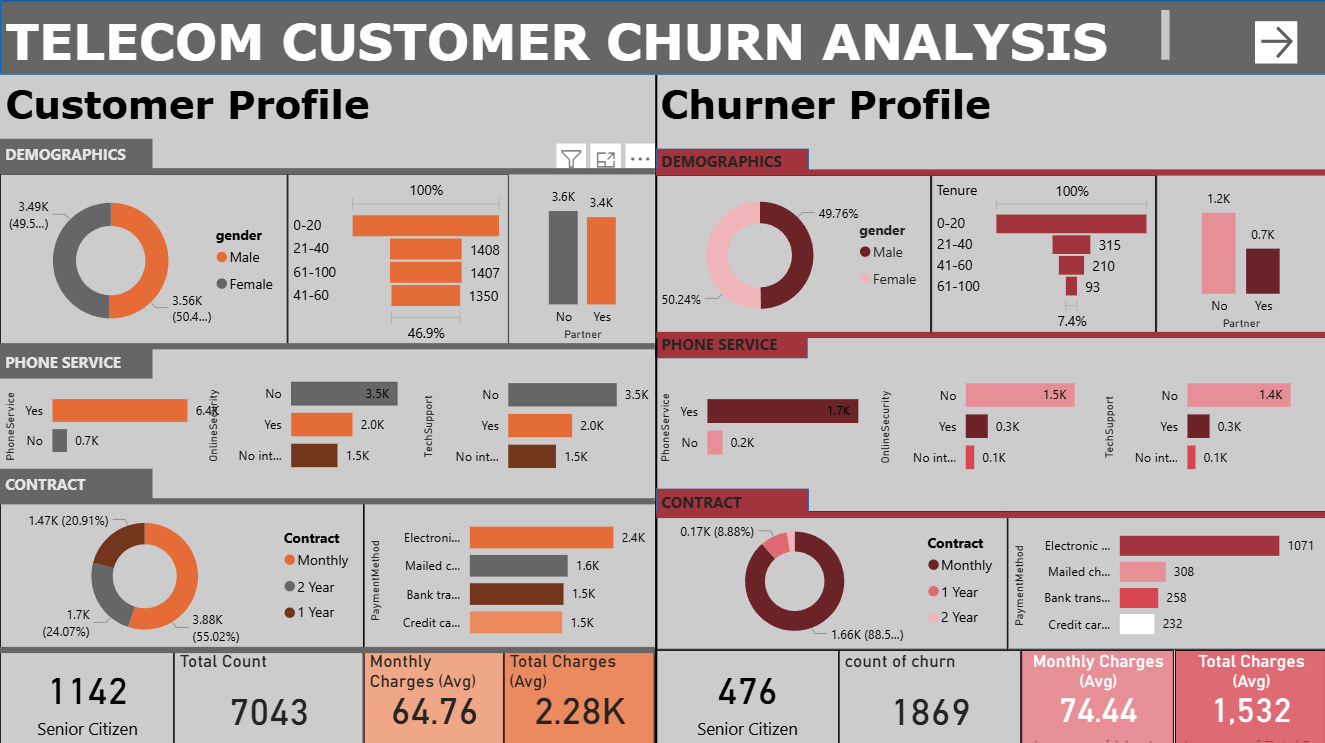

This screenshot's page, from the dashboard's own definition file:
{"tool":"powerbi","page":{"name":"Summary","canvas":[1280,720],"ordinal":0},"visuals":[{"type":"shape","box":[0,0,1280,72.4],"z":0},{"type":"shape","box":[1146.4,627.5,133.6,91.8],"z":1000},{"type":"shape","box":[632.5,321.2,147.5,25],"z":2000},{"type":"card","title":"count of churn","fields":{"Values":["CountNonNull(Churned_Data.Churn)"]},"box":[809.5,627.3,176.1,92.9],"z":3000},{"type":"card","title":"Total Count","fields":{"Values":["CountNonNull(Telco-Churn-Analysis.customerID)"]},"box":[167.7,627.3,183.4,91.7],"z":4000},{"type":"donutChart","fields":{"Category":["Telco-Churn-Analysis.gender"],"Y":["CountNonNull(Telco-Churn-Analysis.gender)","select"]},"box":[0,167.7,277.5,166.5],"z":5000},{"type":"donutChart","fields":{"Category":["Churned_Data.gender"],"Y":["CountNonNull(Churned_Data.gender)"]},"box":[632.5,168.8,266.2,153.8],"z":6000},{"type":"funnel","fields":{"Category":["Telco-Churn-Analysis.Tenure_Bin"],"Y":["CountNonNull(Telco-Churn-Analysis.Tenure_Bin)"]},"box":[277.5,167.7,213.5,166.5],"z":7000},{"type":"funnel","fields":{"Category":["Churned_Data.Tenure_Bin"],"Y":["CountNonNull(Churned_Data.Tenure_Bin)"]},"box":[898.8,168.9,217.2,153.2],"z":8000},{"type":"card","fields":{"Values":["Sum(Telco-Churn-Analysis.SeniorCitizen)"]},"box":[0,627.3,167.7,92.9],"z":9000},{"type":"card","fields":{"Values":["Sum(Churned_Data.SeniorCitizen)"]},"box":[632.2,627.3,177.3,92.9],"z":10000},{"type":"clusteredColumnChart","fields":{"Category":["Telco-Churn-Analysis.Partner"],"Y":["CountNonNull(Telco-Churn-Analysis.Partner)"]},"box":[491,167.7,142.4,165.3],"z":11000},{"type":"clusteredColumnChart","fields":{"Category":["Churned_Data.Partner"],"Y":["CountNonNull(Churned_Data.Partner)"]},"box":[1116.2,167.5,163.8,155],"z":12000},{"type":"clusteredBarChart","fields":{"Category":["Telco-Churn-Analysis.PhoneService"],"Y":["CountNonNull(Telco-Churn-Analysis.PhoneService)"]},"box":[0,346.2,222.5,122.5],"z":13000},{"type":"clusteredBarChart","fields":{"Category":["Churned_Data.PhoneService"],"Y":["CountNonNull(Churned_Data.PhoneService)"]},"box":[632.5,345,231.2,127.5],"z":14000},{"type":"clusteredBarChart","title":"Online Security","fields":{"Category":["Telco-Churn-Analysis.OnlineSecurity"],"Y":["CountNonNull(Telco-Churn-Analysis.OnlineSecurity)"]},"box":[195.4,343.8,220.8,125.5],"z":15000},{"type":"clusteredBarChart","fields":{"Category":["Churned_Data.OnlineSecurity"],"Y":["CountNonNull(Churned_Data.OnlineSecurity)"]},"box":[845,345,227.5,126.2],"z":16000},{"type":"clusteredBarChart","fields":{"Category":["Telco-Churn-Analysis.TechSupport"],"Y":["CountNonNull(Telco-Churn-Analysis.TechSupport)"]},"box":[402.5,345,230,125],"z":17000},{"type":"clusteredBarChart","fields":{"Category":["Churned_Data.TechSupport"],"Y":["CountNonNull(Churned_Data.TechSupport)"]},"box":[1060,345,220,126.2],"z":18000},{"type":"barChart","fields":{"Category":["Churned_Data.PaymentMethod"],"Y":["CountNonNull(Churned_Data.InternetService)"]},"box":[972.4,493.4,307.6,133.9],"z":19000},{"type":"donutChart","fields":{"Category":["Telco-Churn-Analysis.Contract"],"Y":["CountNonNull(Telco-Churn-Analysis.Contract)"]},"box":[0,483.8,351.1,143.6],"z":20000},{"type":"donutChart","fields":{"Category":["Churned_Data.Contract"],"Y":["CountNonNull(Churned_Data.Contract)"]},"box":[633.4,493.4,339,133.9],"z":21000},{"type":"clusteredBarChart","fields":{"Category":["Telco-Churn-Analysis.PaymentMethod"],"Y":["CountNonNull(Telco-Churn-Analysis.PaymentMethod)"]},"box":[351.1,483.8,282.3,143.6],"z":22000},{"type":"card","title":"Monthly Charges (Avg)","fields":{"Values":["Avg(Telco-Churn-Analysis.MonthlyCharges)"]},"box":[351.1,627.3,135.1,92.9],"z":23000},{"type":"card","title":"Monthly Charges (Avg)","fields":{"Values":["Avg(Churned_Data.MonthlyCharges)"]},"box":[985.7,627.3,147.2,92.9],"z":24000},{"type":"card","title":"Total Charges (Avg)","fields":{"Values":["Avg(Churned_Data.TotalCharges)"]},"box":[1134.1,627.3,146,92.9],"z":25000},{"type":"card","title":"Total Charges (Avg)","fields":{"Values":["Avg(Telco-Churn-Analysis.TotalCharges)"]},"box":[486.2,627.3,146,92.9],"z":26000},{"type":"actionButton","box":[1211,20.4,40.8,40.8],"z":27000},{"type":"shape","box":[626.1,72.4,14.5,647.9],"z":29000},{"type":"textbox","box":[633.8,317.5,132.5,31.2],"z":30000},{"type":"shape","box":[633.8,143.8,147.5,25],"z":31000},{"type":"shape","box":[633.8,471.2,147.5,25],"z":32000},{"type":"textbox","box":[633.8,468.8,121.2,31.2],"z":33000},{"type":"textbox","box":[633.8,140,147.5,31.2],"z":34000},{"type":"textbox","box":[898.8,168.9,77.2,35],"z":35000},{"type":"shape","box":[0,621.3,632.2,12.1],"z":36000},{"type":"shape","box":[0,477.8,632.2,12.1],"z":37000},{"type":"shape","box":[0,328.2,632.2,12.1],"z":38000},{"type":"shape","box":[0,159.3,632.2,12.1],"z":39000},{"type":"textbox","box":[0,133.9,147.2,31.4],"z":40000},{"type":"textbox","box":[0,334.2,147.2,31.4],"z":41000},{"type":"textbox","box":[0,452.4,147.2,31.4],"z":42000},{"type":"shape","box":[633.4,161.7,646.7,9.7],"z":43000},{"type":"shape","box":[633.4,317.3,646.7,12.1],"z":44000},{"type":"shape","box":[633.4,491,646.7,12.1],"z":45000},{"type":"textbox","box":[0,4.8,1134.1,62.7],"z":46000},{"type":"textbox","box":[0,72.4,486.2,62.7],"z":47000},{"type":"textbox","box":[632.2,72.4,486.2,62.7],"z":48000}]}

Visuals, with their boxes in screenshot pixels (x1, y1, x2, y2), scaled from the page's 1280x720 canvas onto the 1325x743 screenshot:
shape: [left=0, top=0, right=1324, bottom=75]
shape: [left=1187, top=648, right=1324, bottom=742]
shape: [left=655, top=331, right=807, bottom=357]
"count of churn" card: [left=838, top=647, right=1020, bottom=742]
"Total Count" card: [left=174, top=647, right=363, bottom=742]
donutChart - Telco-Churn-Analysis.gender x CountNonNull(Telco-Churn-Analysis.gender): [left=0, top=173, right=287, bottom=345]
donutChart - Churned_Data.gender x CountNonNull(Churned_Data.gender): [left=655, top=174, right=930, bottom=333]
funnel - Telco-Churn-Analysis.Tenure_Bin x CountNonNull(Telco-Churn-Analysis.Tenure_Bin): [left=287, top=173, right=508, bottom=345]
funnel - Churned_Data.Tenure_Bin x CountNonNull(Churned_Data.Tenure_Bin): [left=930, top=174, right=1155, bottom=332]
card - Sum(Telco-Churn-Analysis.SeniorCitizen): [left=0, top=647, right=174, bottom=742]
card - Sum(Churned_Data.SeniorCitizen): [left=654, top=647, right=838, bottom=742]
clusteredColumnChart - Telco-Churn-Analysis.Partner x CountNonNull(Telco-Churn-Analysis.Partner): [left=508, top=173, right=656, bottom=344]
clusteredColumnChart - Churned_Data.Partner x CountNonNull(Churned_Data.Partner): [left=1155, top=173, right=1324, bottom=333]
clusteredBarChart - Telco-Churn-Analysis.PhoneService x CountNonNull(Telco-Churn-Analysis.PhoneService): [left=0, top=357, right=230, bottom=484]
clusteredBarChart - Churned_Data.PhoneService x CountNonNull(Churned_Data.PhoneService): [left=655, top=356, right=894, bottom=488]
"Online Security" clusteredBarChart: [left=202, top=355, right=431, bottom=484]
clusteredBarChart - Churned_Data.OnlineSecurity x CountNonNull(Churned_Data.OnlineSecurity): [left=875, top=356, right=1110, bottom=486]
clusteredBarChart - Telco-Churn-Analysis.TechSupport x CountNonNull(Telco-Churn-Analysis.TechSupport): [left=417, top=356, right=655, bottom=485]
clusteredBarChart - Churned_Data.TechSupport x CountNonNull(Churned_Data.TechSupport): [left=1097, top=356, right=1324, bottom=486]
barChart - Churned_Data.PaymentMethod x CountNonNull(Churned_Data.InternetService): [left=1007, top=509, right=1324, bottom=647]
donutChart - Telco-Churn-Analysis.Contract x CountNonNull(Telco-Churn-Analysis.Contract): [left=0, top=499, right=363, bottom=647]
donutChart - Churned_Data.Contract x CountNonNull(Churned_Data.Contract): [left=656, top=509, right=1007, bottom=647]
clusteredBarChart - Telco-Churn-Analysis.PaymentMethod x CountNonNull(Telco-Churn-Analysis.PaymentMethod): [left=363, top=499, right=656, bottom=647]
"Monthly Charges (Avg)" card: [left=363, top=647, right=503, bottom=742]
"Monthly Charges (Avg)" card: [left=1020, top=647, right=1173, bottom=742]
"Total Charges (Avg)" card: [left=1174, top=647, right=1324, bottom=742]
"Total Charges (Avg)" card: [left=503, top=647, right=654, bottom=742]
actionButton: [left=1254, top=21, right=1296, bottom=63]
shape: [left=648, top=75, right=663, bottom=742]
textbox: [left=656, top=328, right=793, bottom=360]
shape: [left=656, top=148, right=809, bottom=174]
shape: [left=656, top=486, right=809, bottom=512]
textbox: [left=656, top=484, right=782, bottom=516]
textbox: [left=656, top=144, right=809, bottom=177]
textbox: [left=930, top=174, right=1010, bottom=210]
shape: [left=0, top=641, right=654, bottom=654]
shape: [left=0, top=493, right=654, bottom=506]
shape: [left=0, top=339, right=654, bottom=351]
shape: [left=0, top=164, right=654, bottom=177]
textbox: [left=0, top=138, right=152, bottom=171]
textbox: [left=0, top=345, right=152, bottom=377]
textbox: [left=0, top=467, right=152, bottom=499]
shape: [left=656, top=167, right=1324, bottom=177]
shape: [left=656, top=327, right=1324, bottom=340]
shape: [left=656, top=507, right=1324, bottom=519]
textbox: [left=0, top=5, right=1174, bottom=70]
textbox: [left=0, top=75, right=503, bottom=139]
textbox: [left=654, top=75, right=1158, bottom=139]
